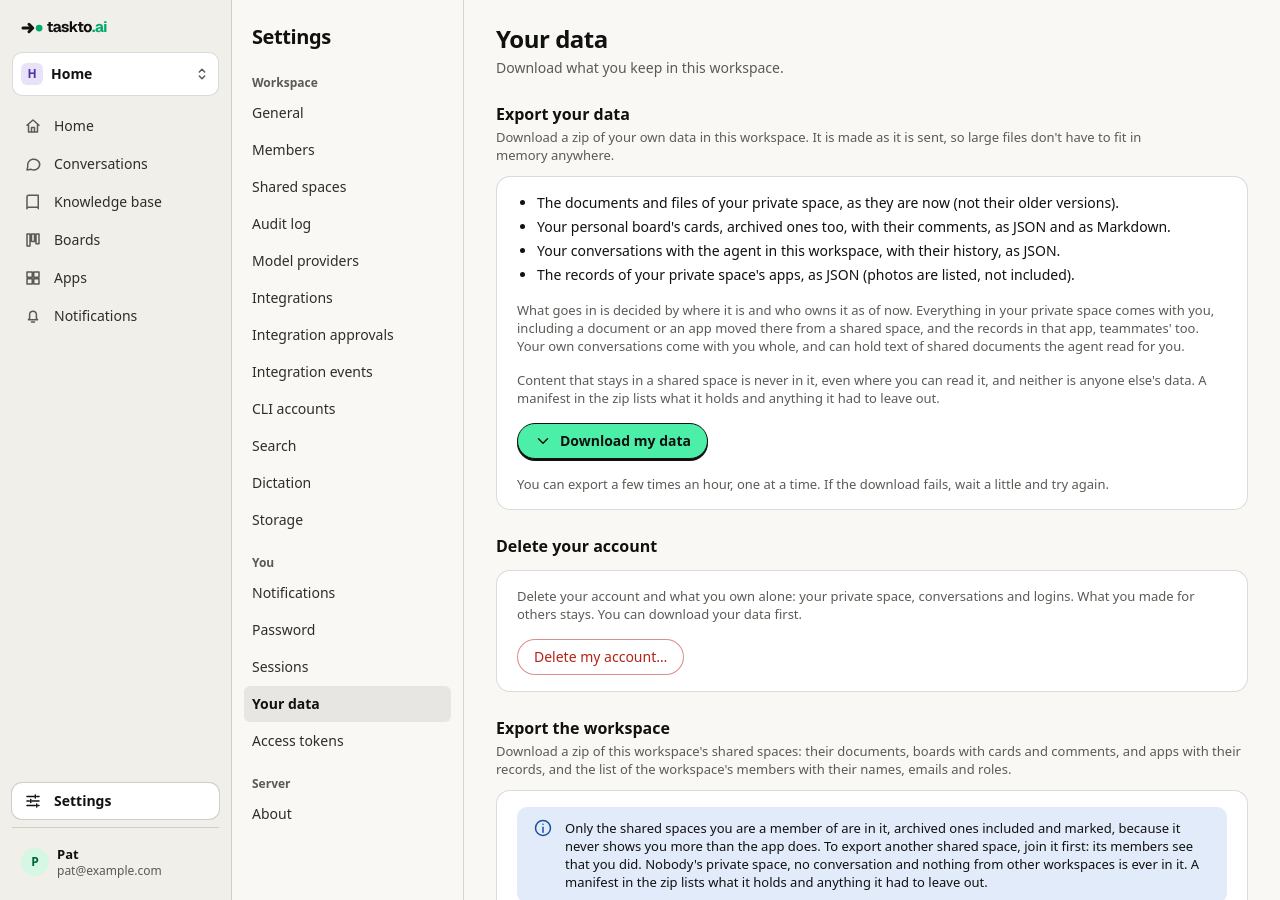
Scenario: deleting the account here clears what the device kept of it: the offline database with its unsent records, and the drafts
The image size is (1280, 900).
Click the button "Delete my account…" at (601, 657), box [517,639,684,675]
(page scrolled)
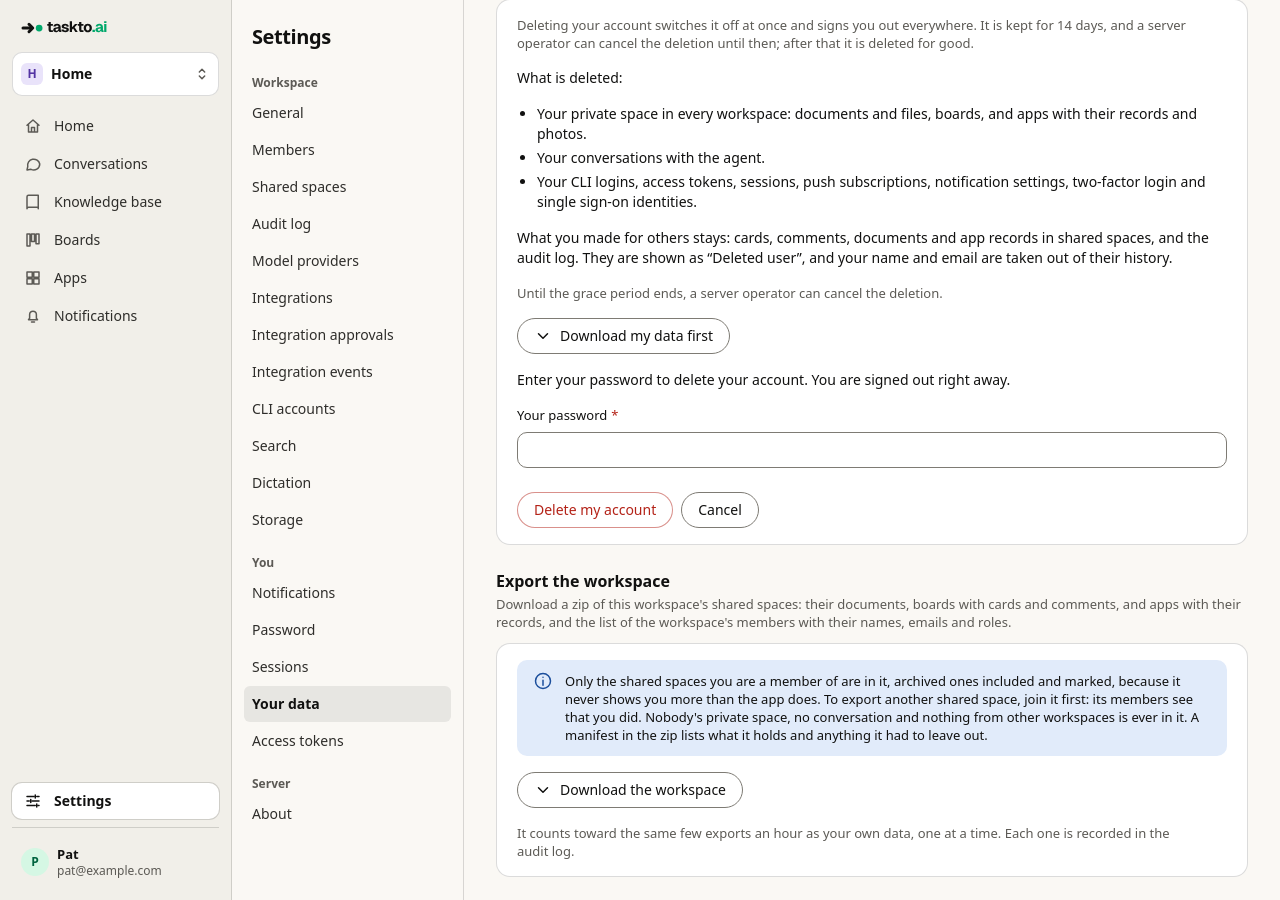
Type "fake-test-password" into the password field labelled "Your password" at (872, 450), box [517,432,1227,468]
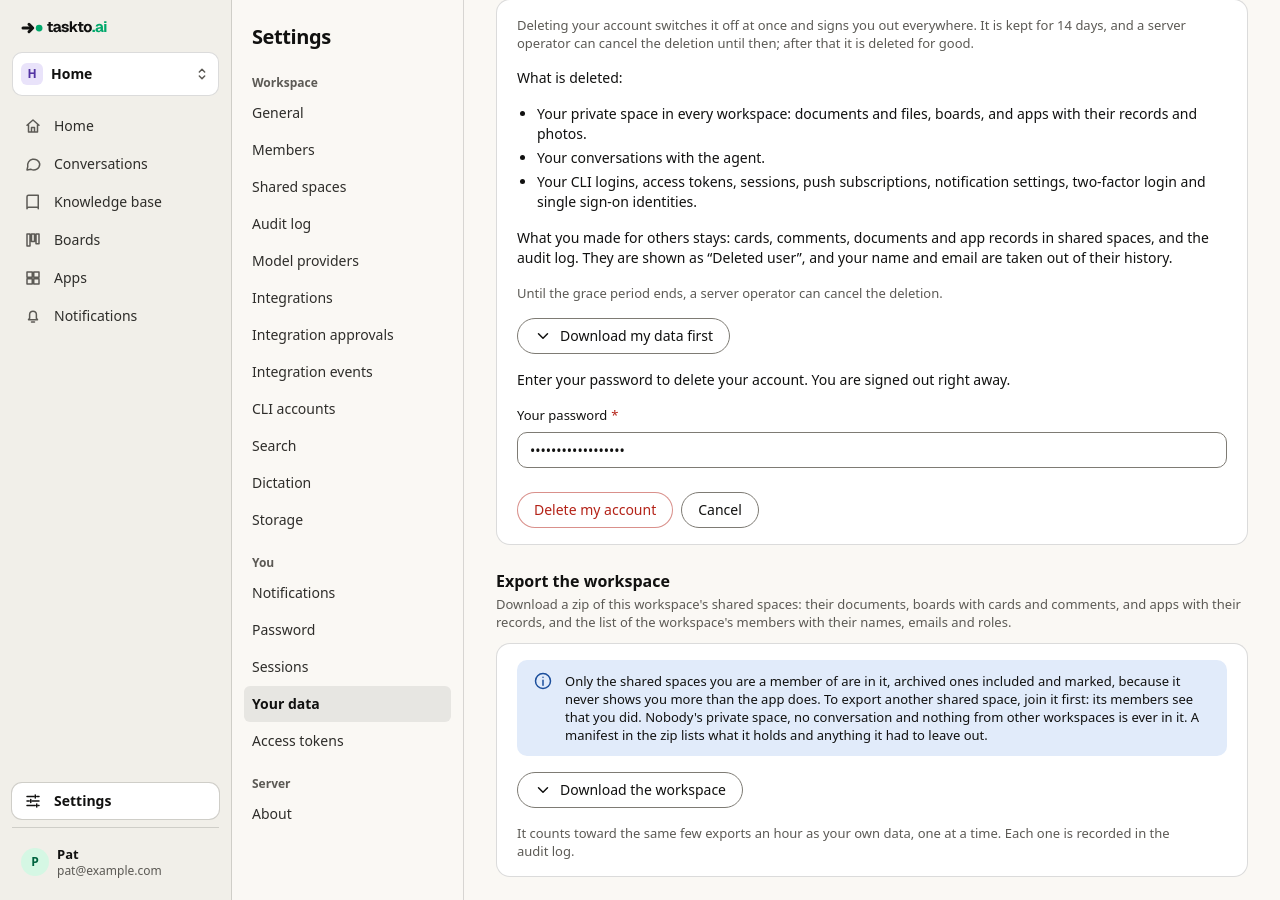
Click the button "Delete my account" at (595, 510), box [517,492,673,528]
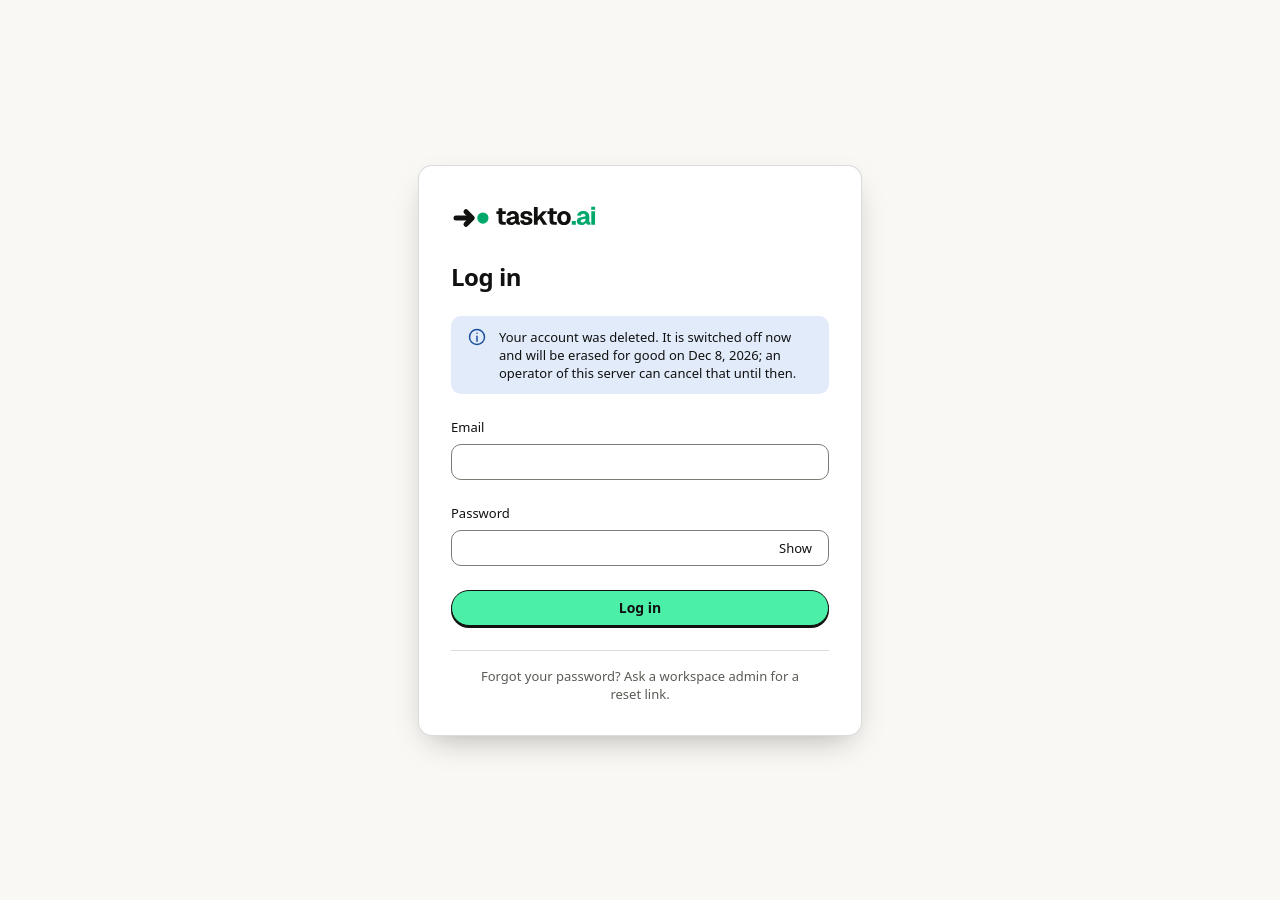
Expected: the heading "Log in" is shown, [451,260,521,292]
